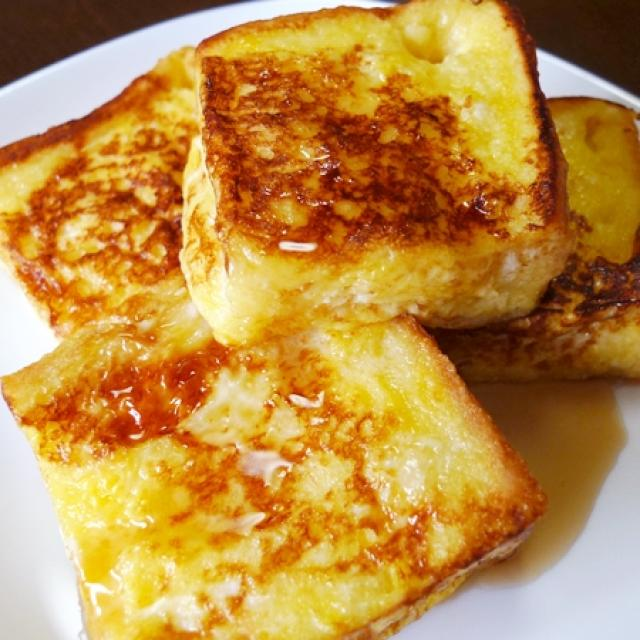面包点心: (7, 10, 626, 634)
